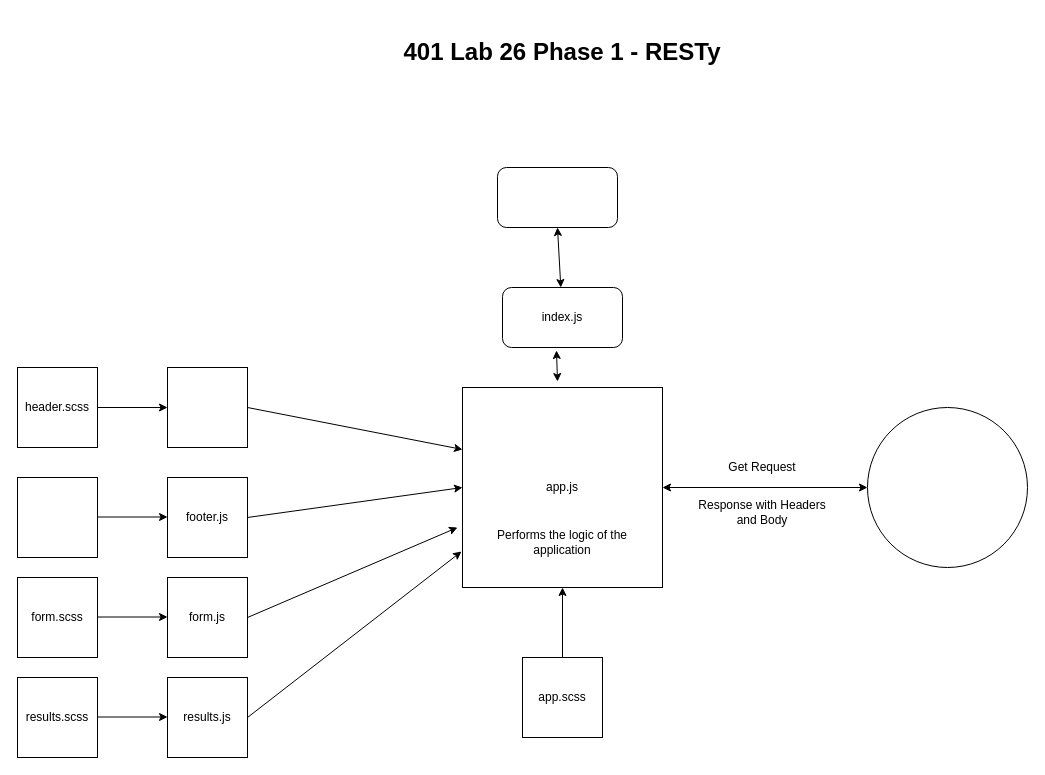
Some shapes in this 1045 by 775 pixel diagram are drawn without their labels. Each missing label, with the centre of its shape:
"API" belongs at point (947, 487).
"footer.scss" belongs at point (57, 517).
"header.js" belongs at point (207, 407).
"index.html" belongs at point (557, 197).
